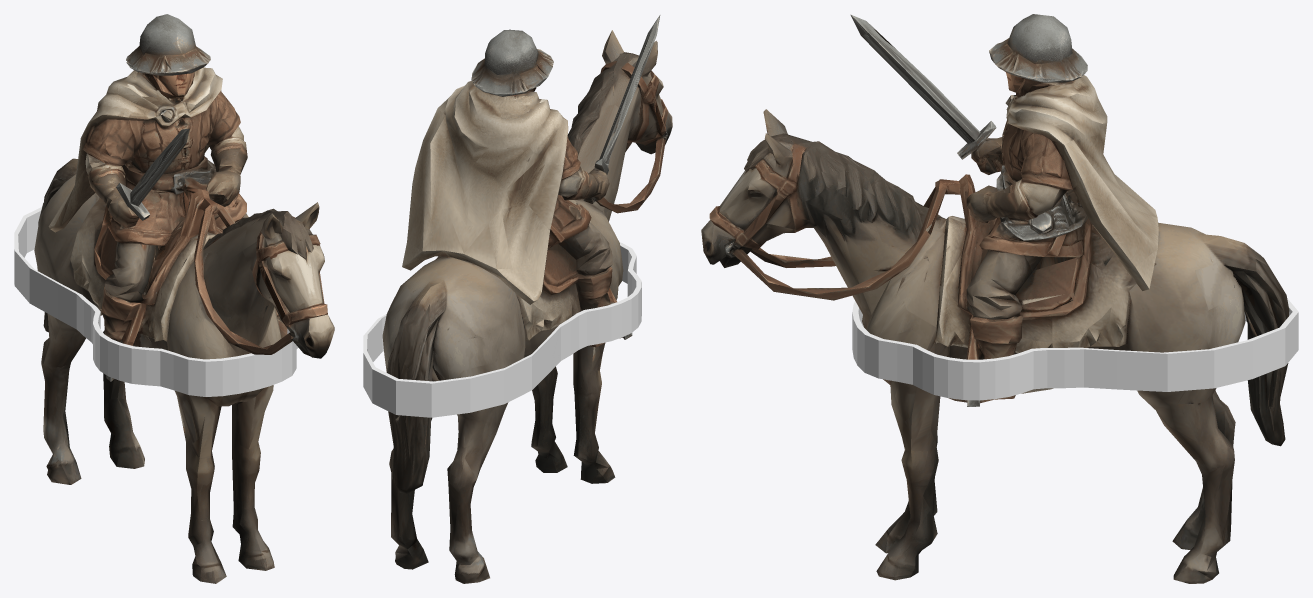
File: scout_rider.glb
The picture shows the model from 3 angles, left to right: view 1: azimuth 30°, elevation 25°; view 2: azimuth 150°, elevation 25°; view 3: azimuth 270°, elevation 25°; orthographic projection. The views are drawn at different scales.
Visible parts, largest first — view 1: scout_rider, Team_band; view 2: scout_rider, Team_band; view 3: scout_rider, Team_band.
Boxes of the visible parts, left/top/right/bottom form: scout_rider: left=34, top=14, right=334, bottom=583; Team_band: left=14, top=207, right=298, bottom=396; scout_rider: left=382, top=15, right=672, bottom=583; Team_band: left=363, top=242, right=641, bottom=417; scout_rider: left=701, top=14, right=1289, bottom=583; Team_band: left=852, top=298, right=1298, bottom=400.
Size of the model in its own units: 0.754 by 1.9 by 1.89.
Materials: 2 (1 with a texture image).
